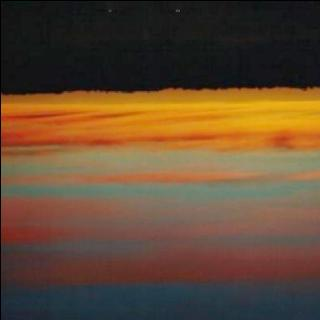Altostratus: (0, 102, 320, 319)
